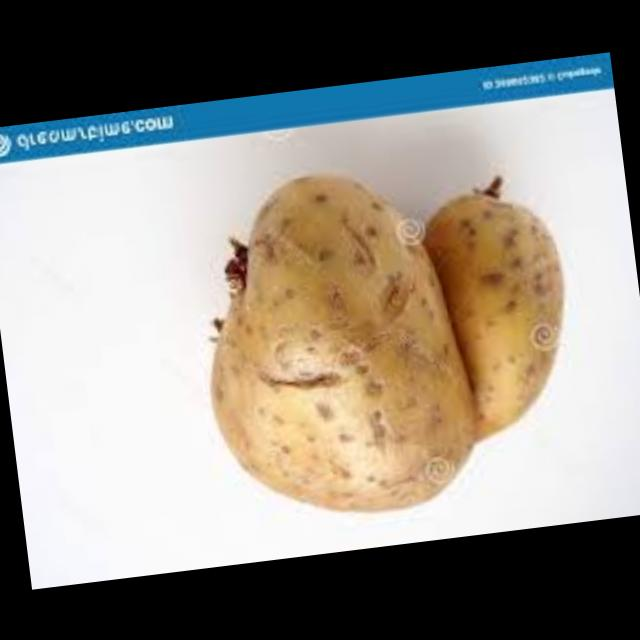Sprouted potato: (184, 139, 593, 536)
